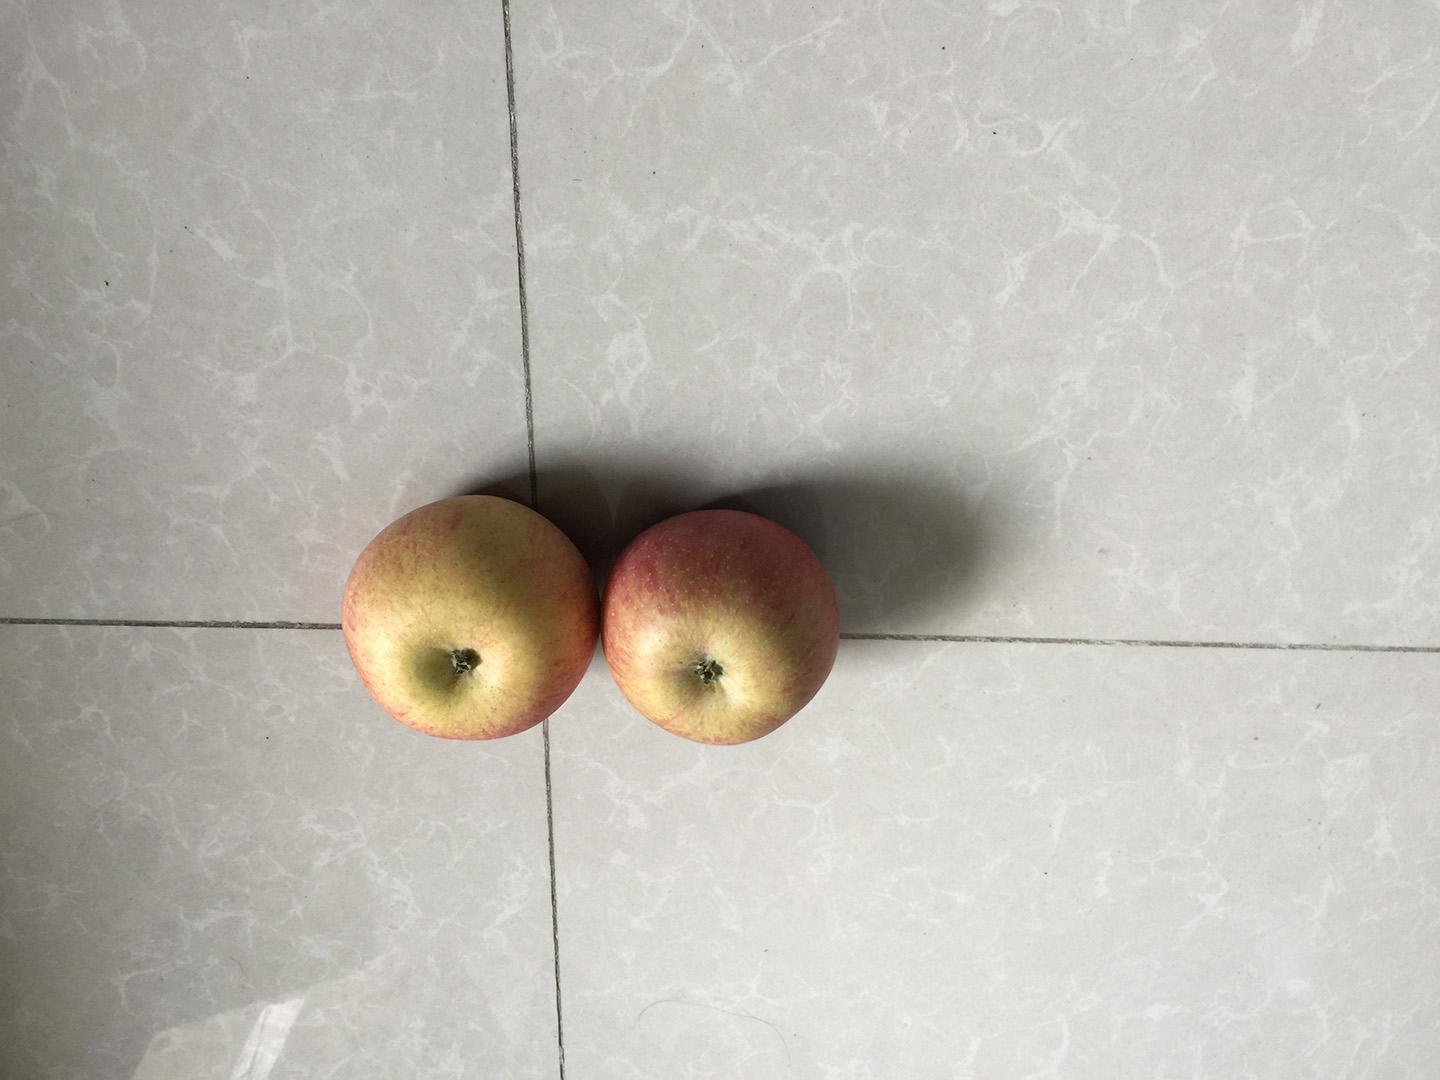apple: (331, 487, 605, 749), (602, 504, 848, 750)
